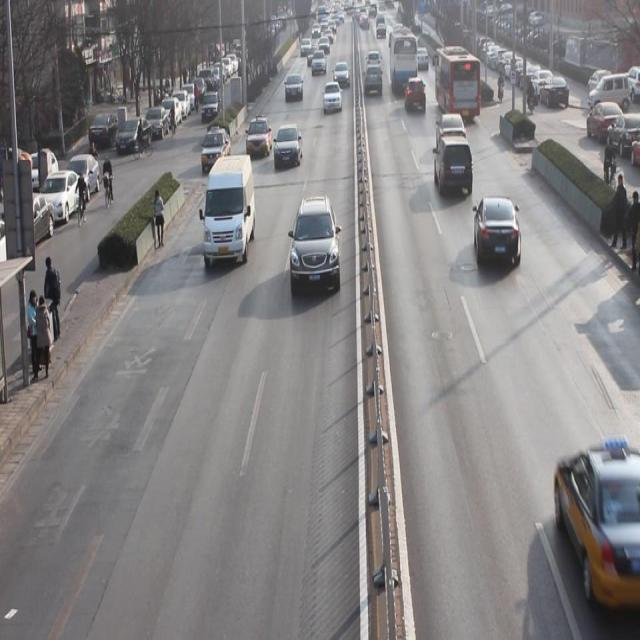car: (555, 436, 627, 609), (289, 192, 343, 296), (472, 191, 523, 268), (434, 136, 474, 196), (435, 109, 467, 154), (200, 128, 232, 172), (273, 124, 303, 170), (244, 115, 271, 154), (403, 74, 428, 111), (362, 63, 384, 96), (322, 80, 342, 113), (285, 72, 303, 100), (365, 49, 384, 75), (332, 59, 350, 84), (416, 43, 430, 72), (312, 48, 326, 74)
truck: (203, 151, 256, 265)
van: (434, 43, 479, 119), (388, 26, 417, 94)
